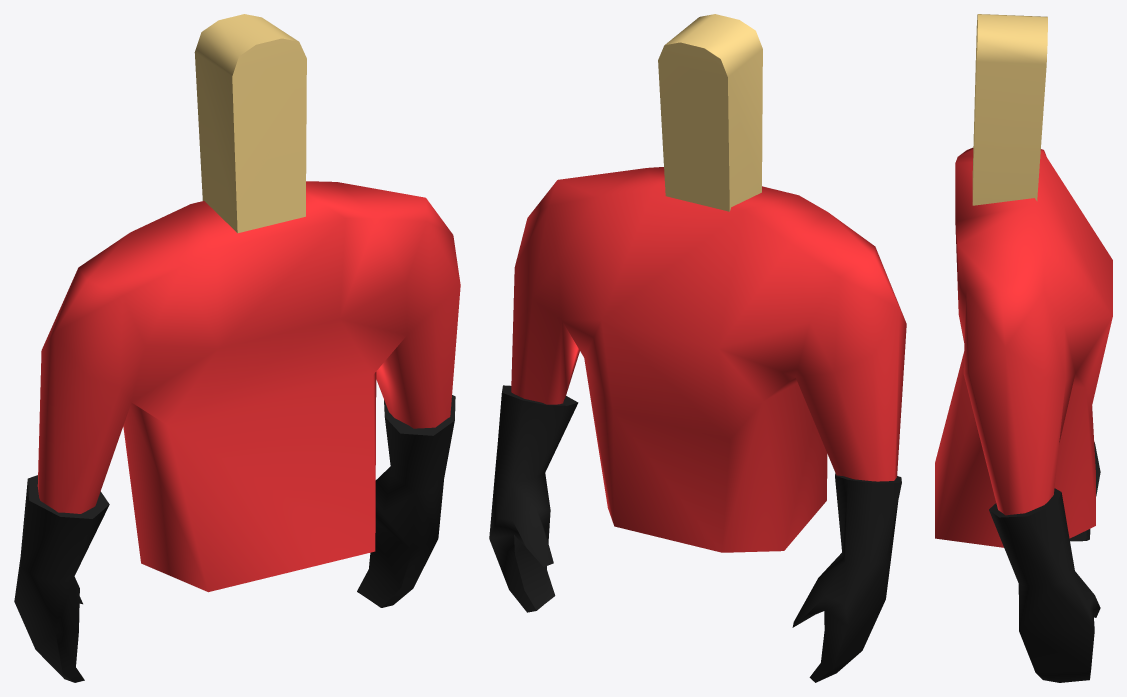
Rendered from redupper.glb.
The picture shows the model from 3 angles, left to right: view 1: azimuth 30°, elevation 25°; view 2: azimuth 150°, elevation 25°; view 3: azimuth 270°, elevation 25°; orthographic projection. The views are drawn at different scales.
Visible parts, largest first — view 1: baseupper; view 2: baseupper; view 3: baseupper.
Boxes of the visible parts, x1,y1,x2,y2 form: baseupper: (14,14,460,682); baseupper: (489,14,906,682); baseupper: (935,14,1112,682).
Size of the model in its own units: 0.5985 by 0.8454 by 0.2312.
Materials: 1 (1 with a texture image).
